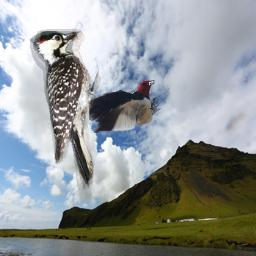Woodpecker: (28, 29, 104, 190), (89, 77, 161, 133)
